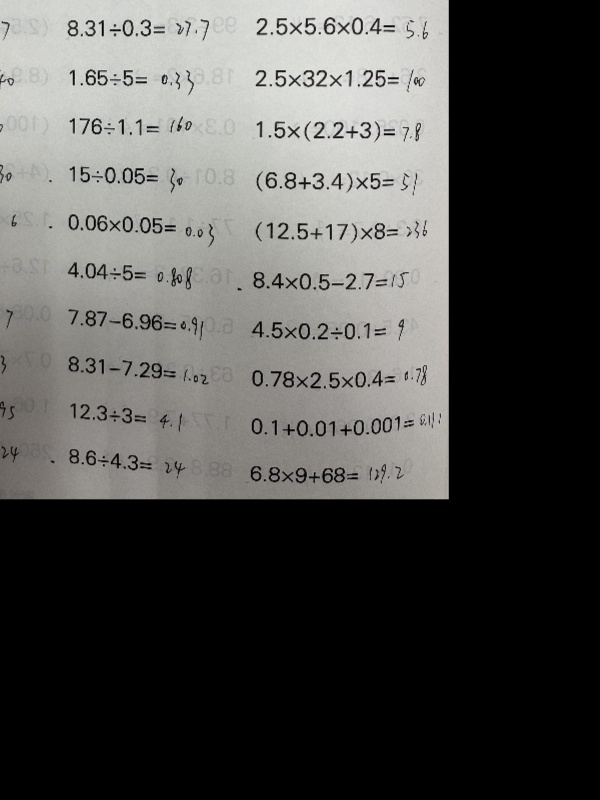equation: (248, 401, 445, 448), (248, 355, 433, 399), (254, 6, 440, 44), (252, 57, 438, 95), (249, 163, 435, 201), (249, 208, 435, 246), (245, 451, 418, 489), (64, 206, 219, 247), (248, 259, 415, 297), (64, 349, 211, 390), (64, 302, 211, 343), (59, 255, 206, 296), (246, 308, 412, 344), (66, 440, 193, 483), (65, 394, 192, 437), (252, 116, 424, 144), (65, 161, 192, 196), (64, 64, 196, 97), (63, 15, 213, 44), (65, 112, 194, 137), (0, 156, 34, 186), (0, 201, 27, 238), (0, 430, 22, 467), (0, 388, 19, 425), (0, 297, 15, 334), (0, 339, 13, 376), (0, 63, 17, 89), (0, 11, 12, 40), (0, 111, 7, 146), (0, 251, 4, 281)
